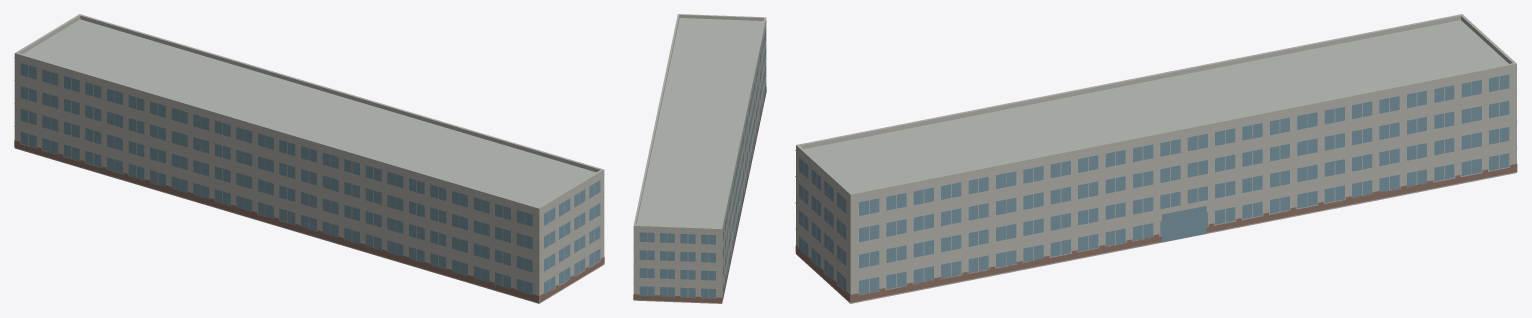
The model's file is public-26e6bd37-4f68-4687-8d54-94d7f05d4eeb.glb.
3 views of the same model, side by side, from view 1: azimuth 30°, elevation 25°; view 2: azimuth 150°, elevation 25°; view 3: azimuth 270°, elevation 25° (orthographic). The views are drawn at different scales.
Visible parts, largest first — view 1: public-26e6bd37-4f68-4687-8d54-94d7f05d4eeb; view 2: public-26e6bd37-4f68-4687-8d54-94d7f05d4eeb; view 3: public-26e6bd37-4f68-4687-8d54-94d7f05d4eeb.
Part boxes in pixels (x1,y1,x2,y2): public-26e6bd37-4f68-4687-8d54-94d7f05d4eeb: [14, 14, 604, 303]; public-26e6bd37-4f68-4687-8d54-94d7f05d4eeb: [633, 14, 766, 303]; public-26e6bd37-4f68-4687-8d54-94d7f05d4eeb: [795, 14, 1517, 303].
Size of the model in its own units: 43.42 by 12.2 by 73.12.
